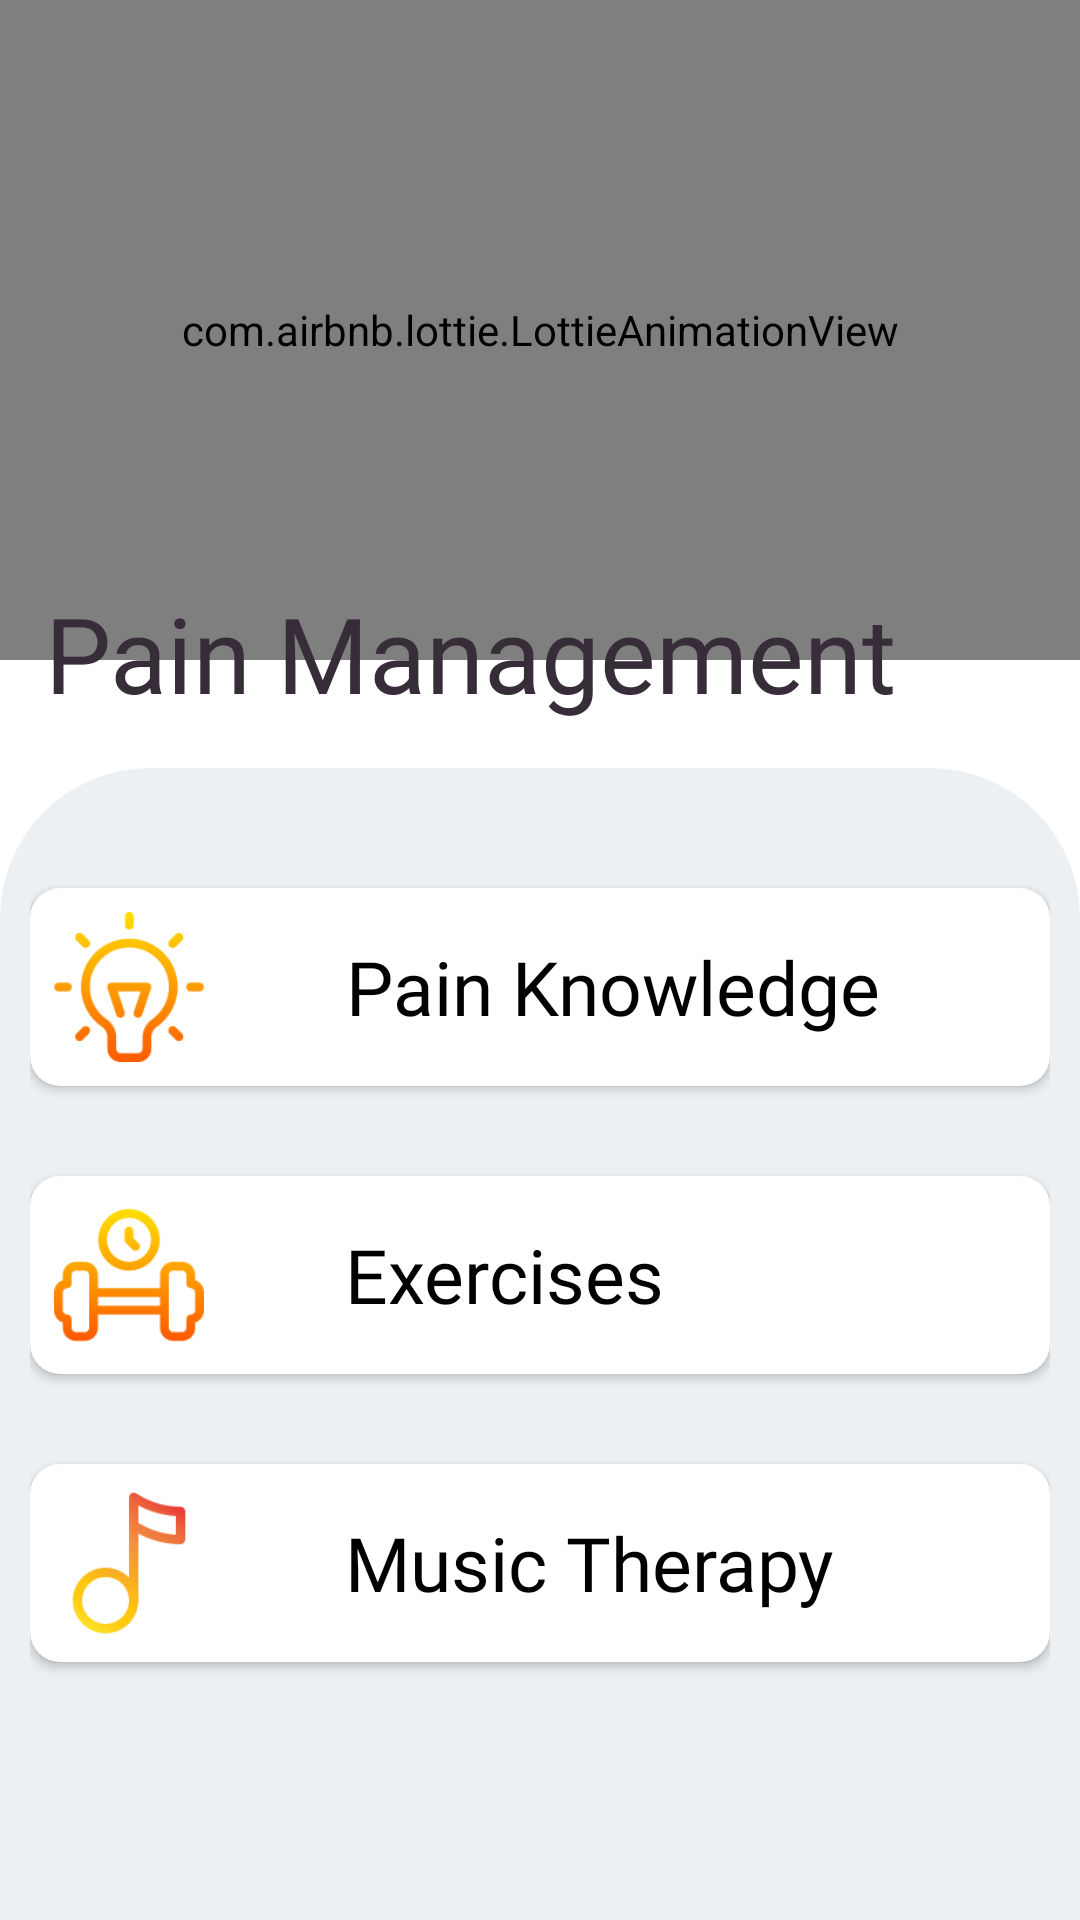

Icon click points for this 1080*1920 phone screenshot, format (x=x, y=y):
idea: (x=129, y=987)
